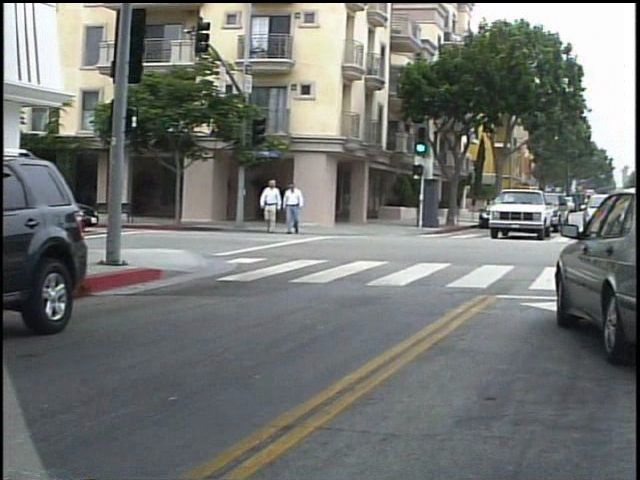person: (288, 177, 315, 239), (265, 177, 288, 240)
